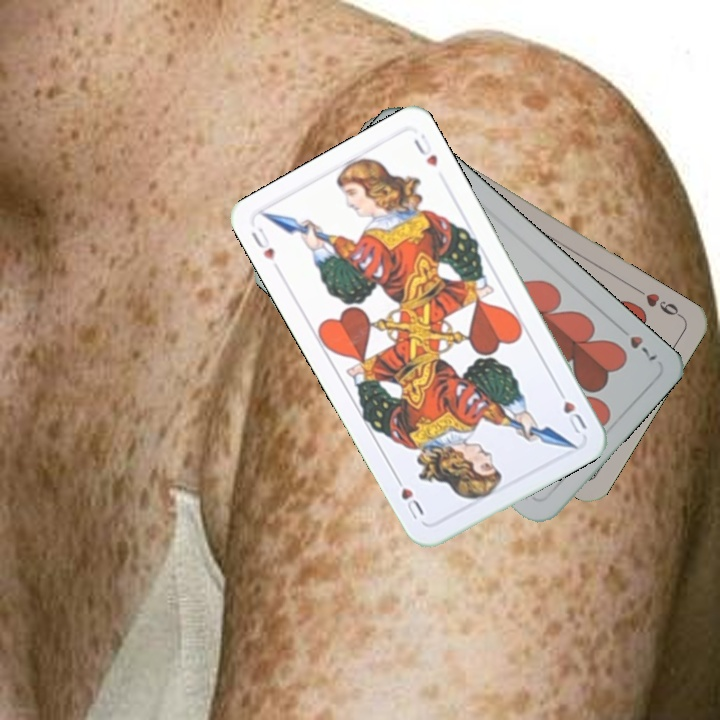H7: (613, 321, 661, 364)
H9: (632, 284, 685, 321)
HU: (552, 382, 590, 437), (247, 223, 278, 264)
